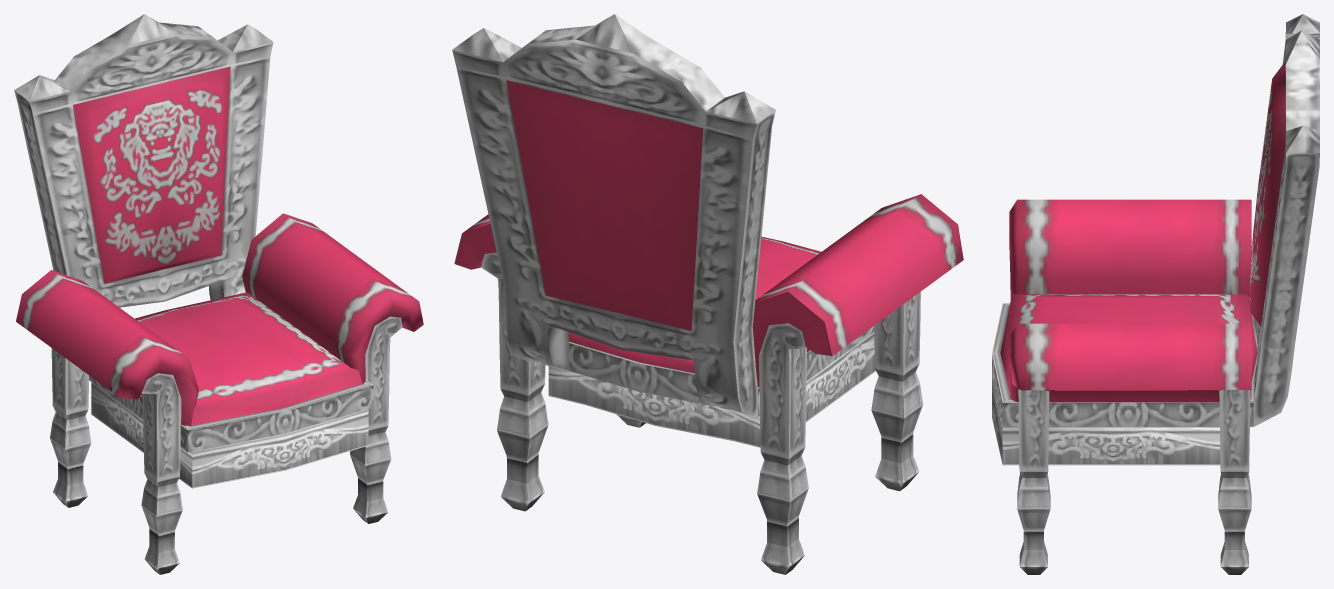
File: QueenChair_HD.fbx
The picture shows the model from 3 angles, left to right: view 1: azimuth 30°, elevation 25°; view 2: azimuth 150°, elevation 25°; view 3: azimuth 270°, elevation 25°; orthographic projection. The views are drawn at different scales.
Parts seen in each view (by area): view 1: QueenChair; view 2: QueenChair; view 3: QueenChair.
Part boxes in pixels (x1,y1,x2,y2): QueenChair: (14,14,423,574); QueenChair: (452,14,963,574); QueenChair: (992,14,1319,574).
Bounding box in the file's own units: 0.7385 × 1.03 × 0.631.
